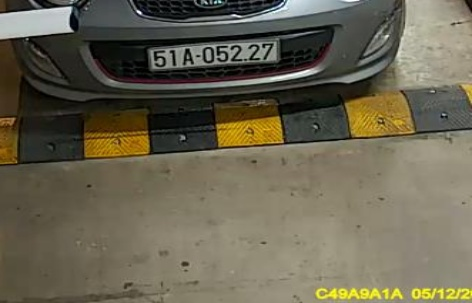plate: (149, 37, 282, 70)
